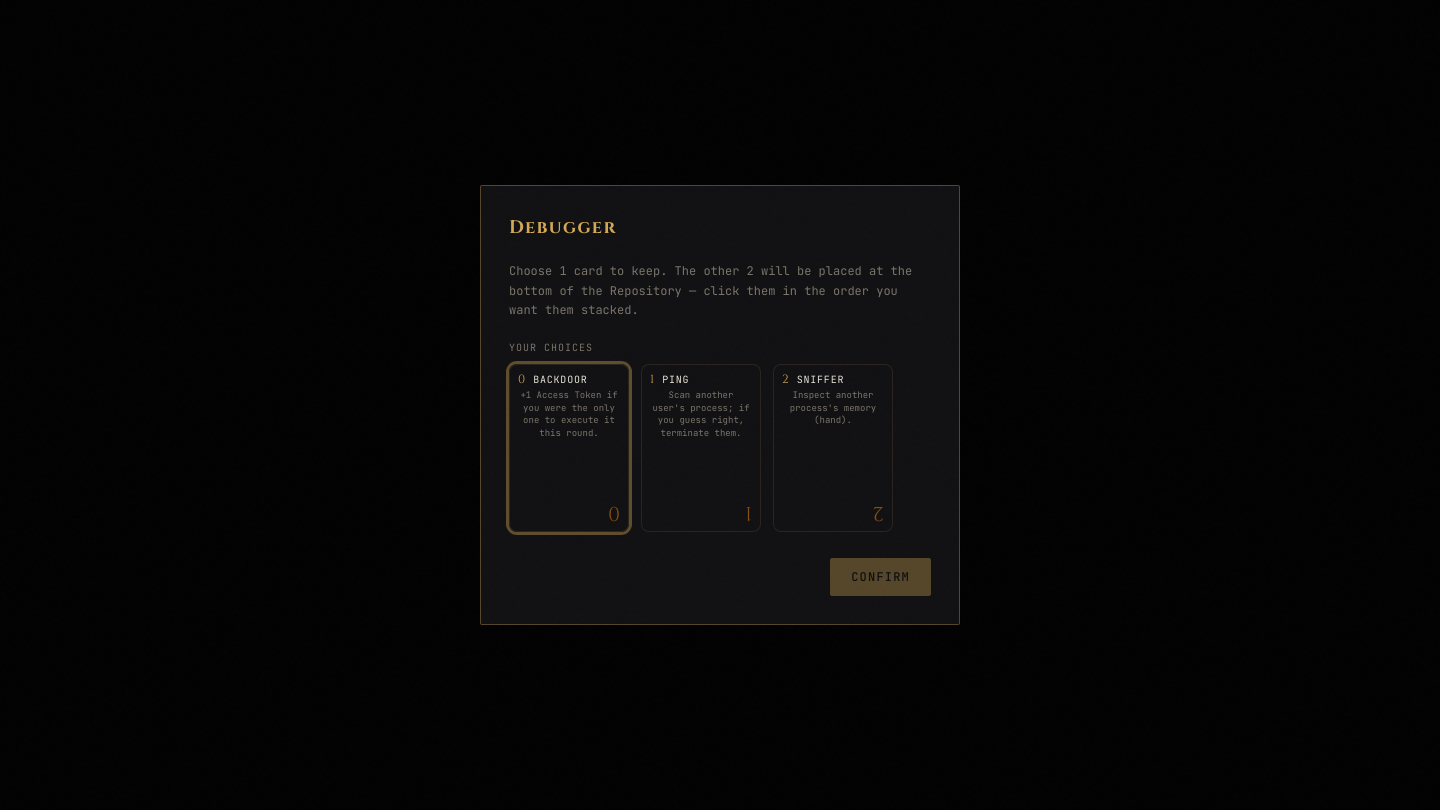
Scenario: DebuggerModal › shows Keep tag on selected keep card
Click the button with test id "card" that starts with "BACKDOOR" at (569, 448), box [509, 364, 629, 532]
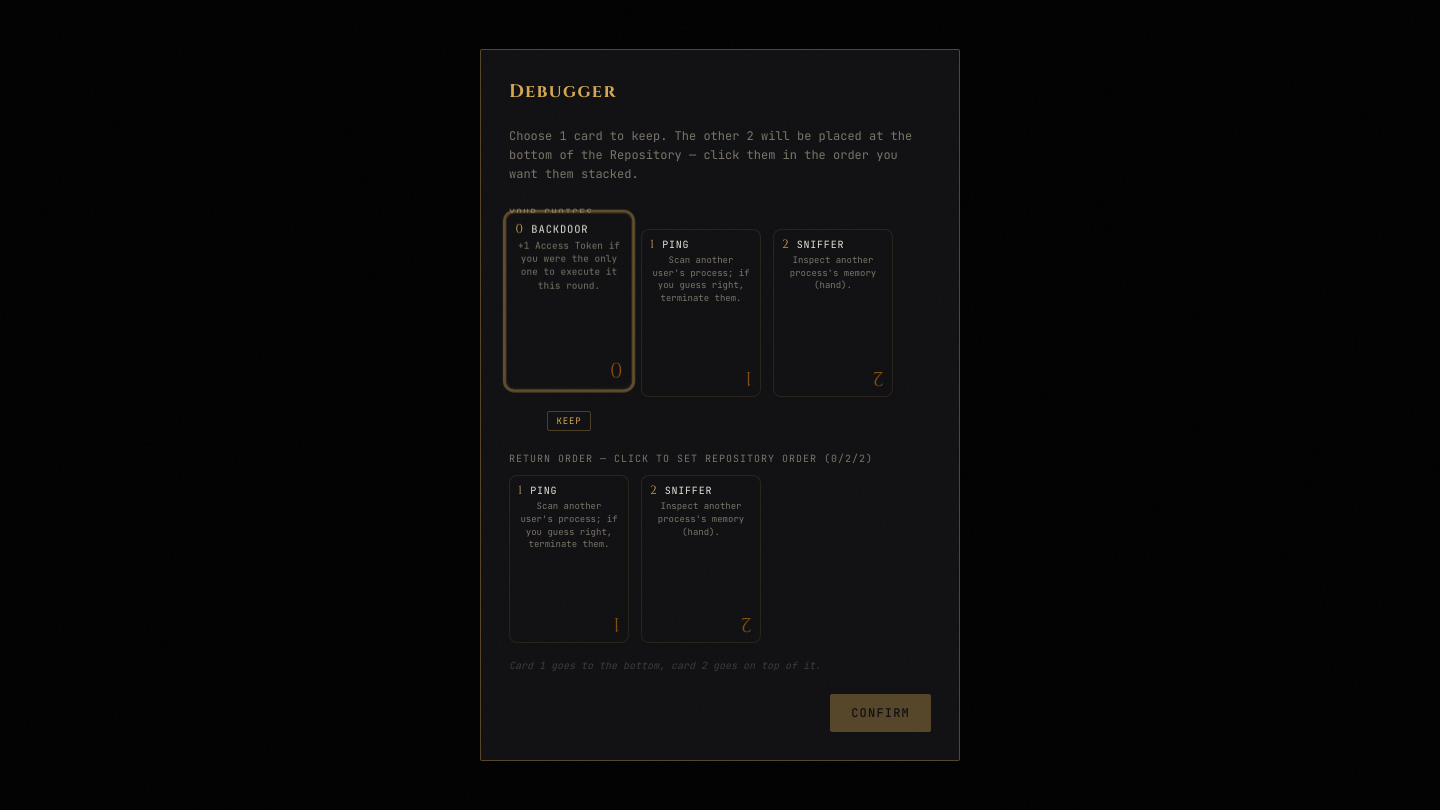
Expected: the text "Keep" is shown, [547, 411, 591, 431]
